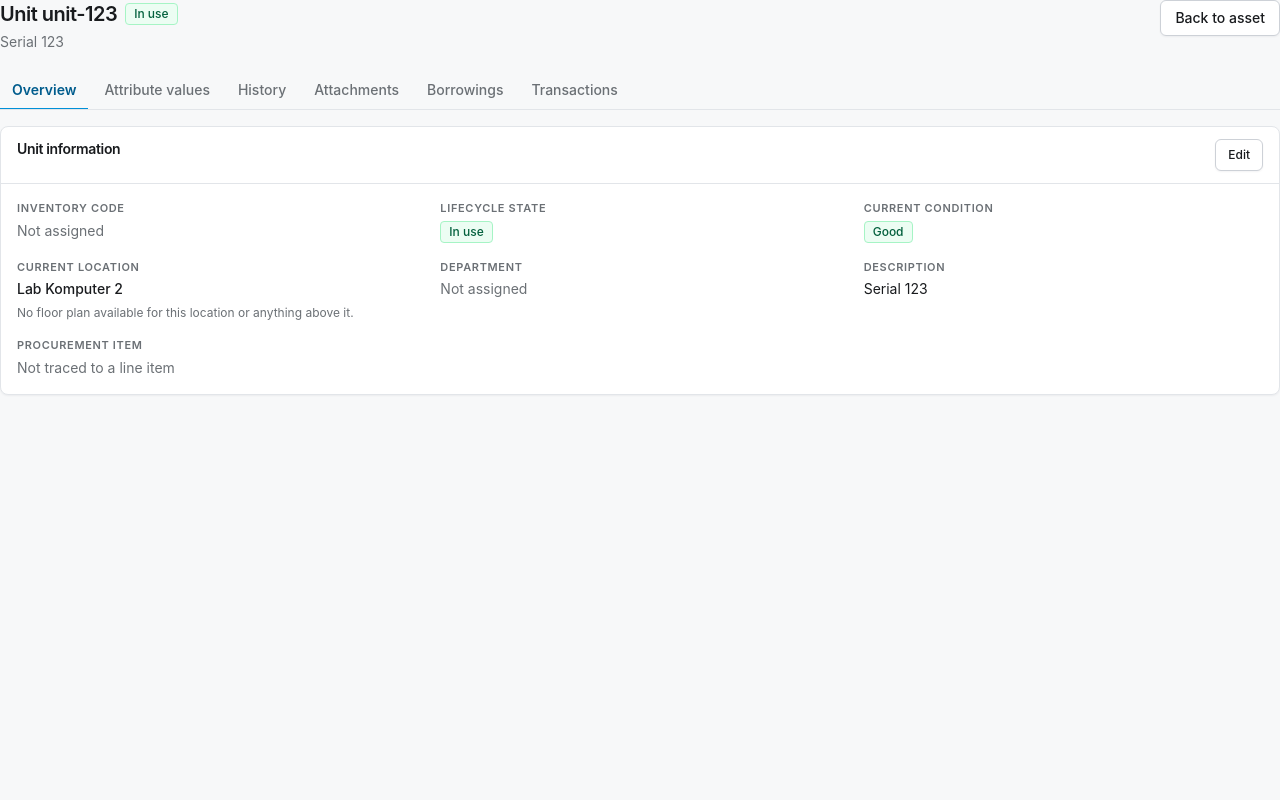
it: AssetUnitDetailPage › reports a rejected lifecycle transition from the server (REQ-LIFE-002)
Click the tab "History".
click(262, 91)  # box top-left (226, 72), bottom-right (298, 110)
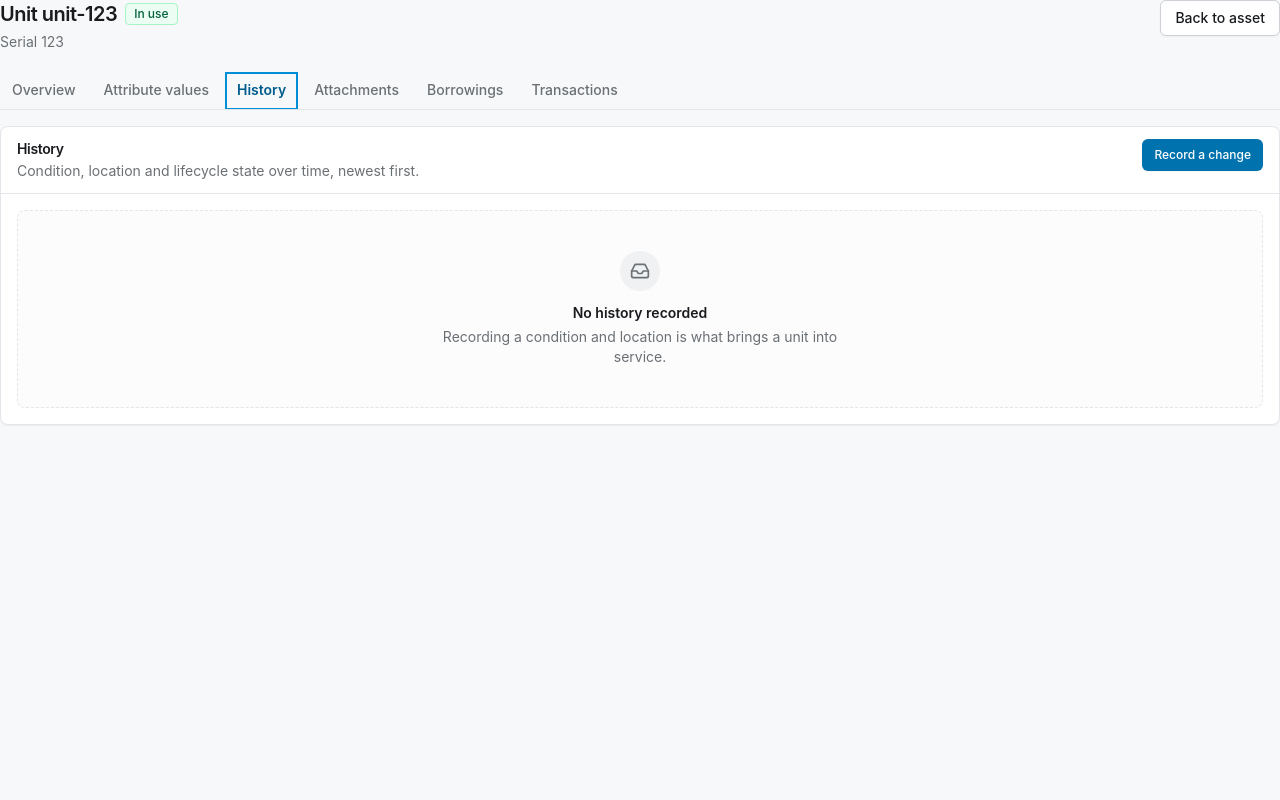
Click the button "Record a change".
click(1203, 155)  # box top-left (1142, 139), bottom-right (1263, 171)
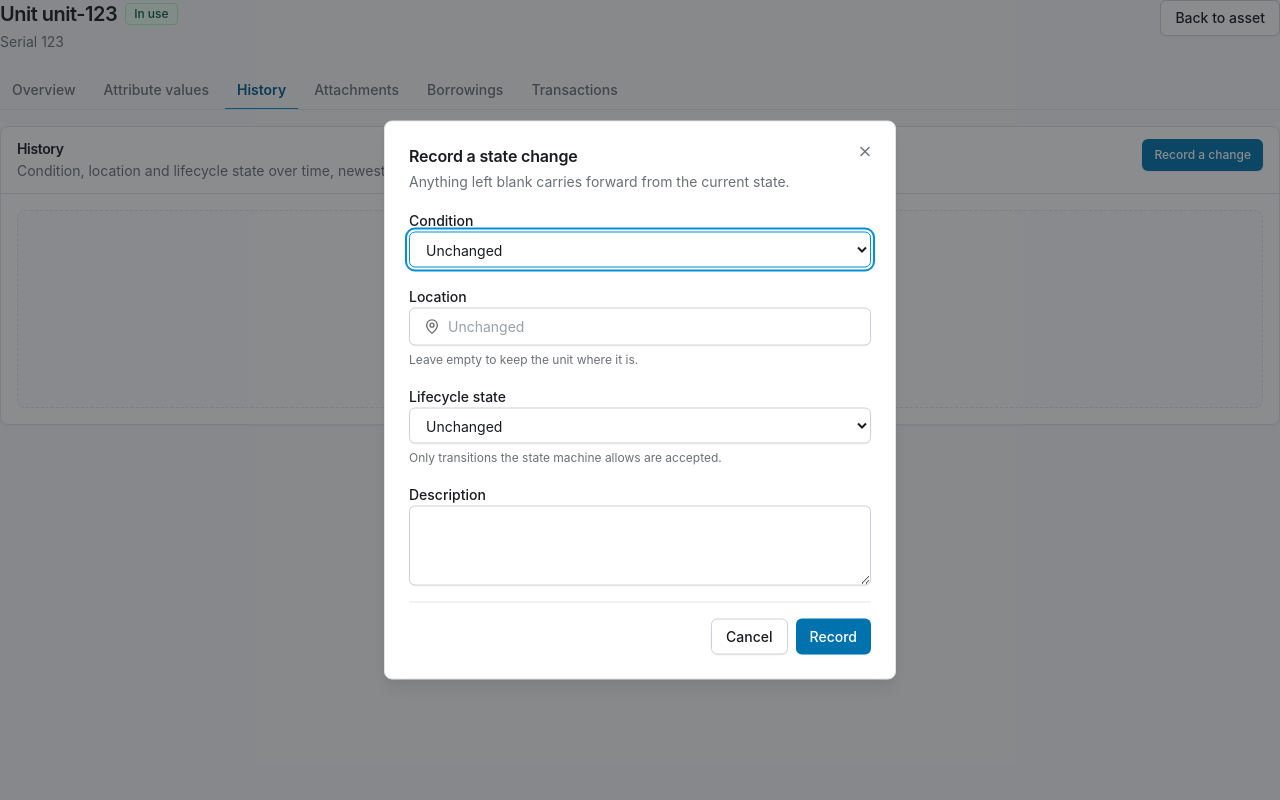
Select "Registered" in the dropdown labelled "Lifecycle state" at (640,426), box top-left (409, 408), bottom-right (871, 444)
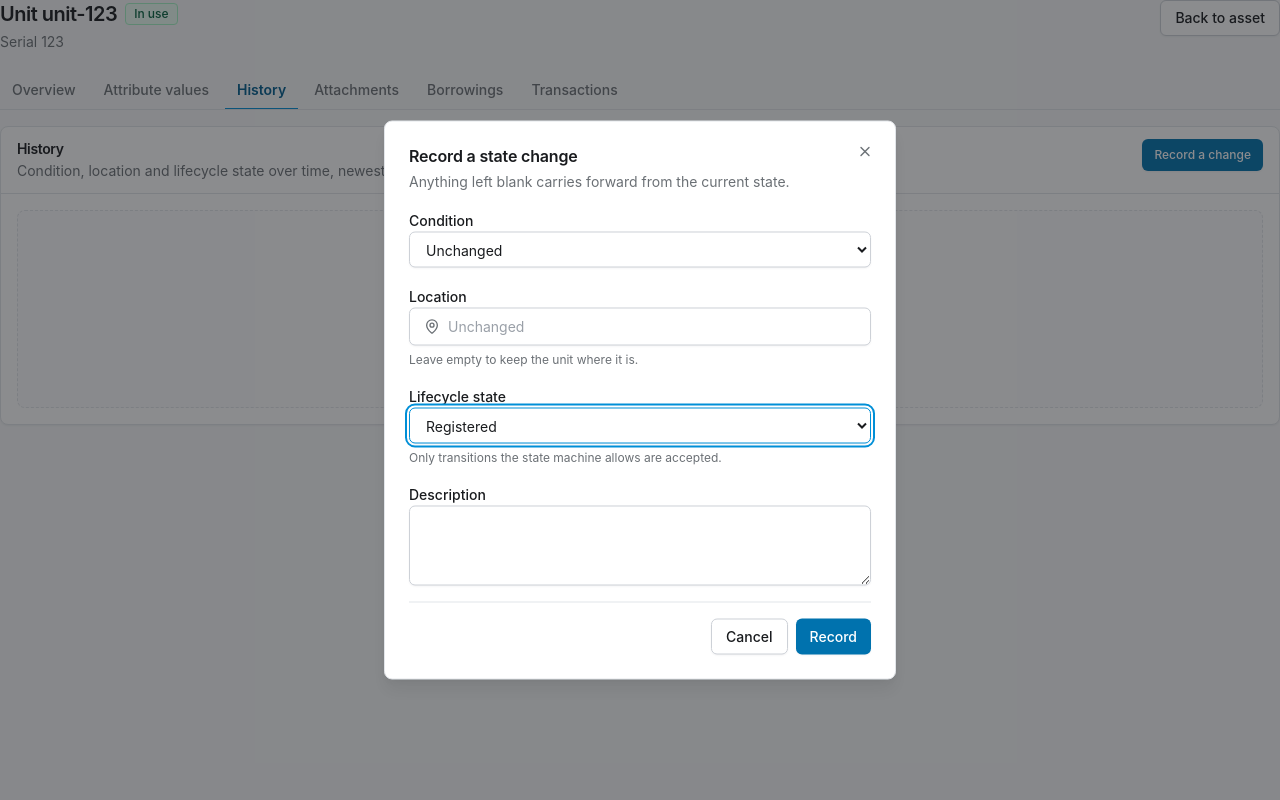
Click the button "Record".
click(833, 636)  # box top-left (796, 618), bottom-right (871, 654)
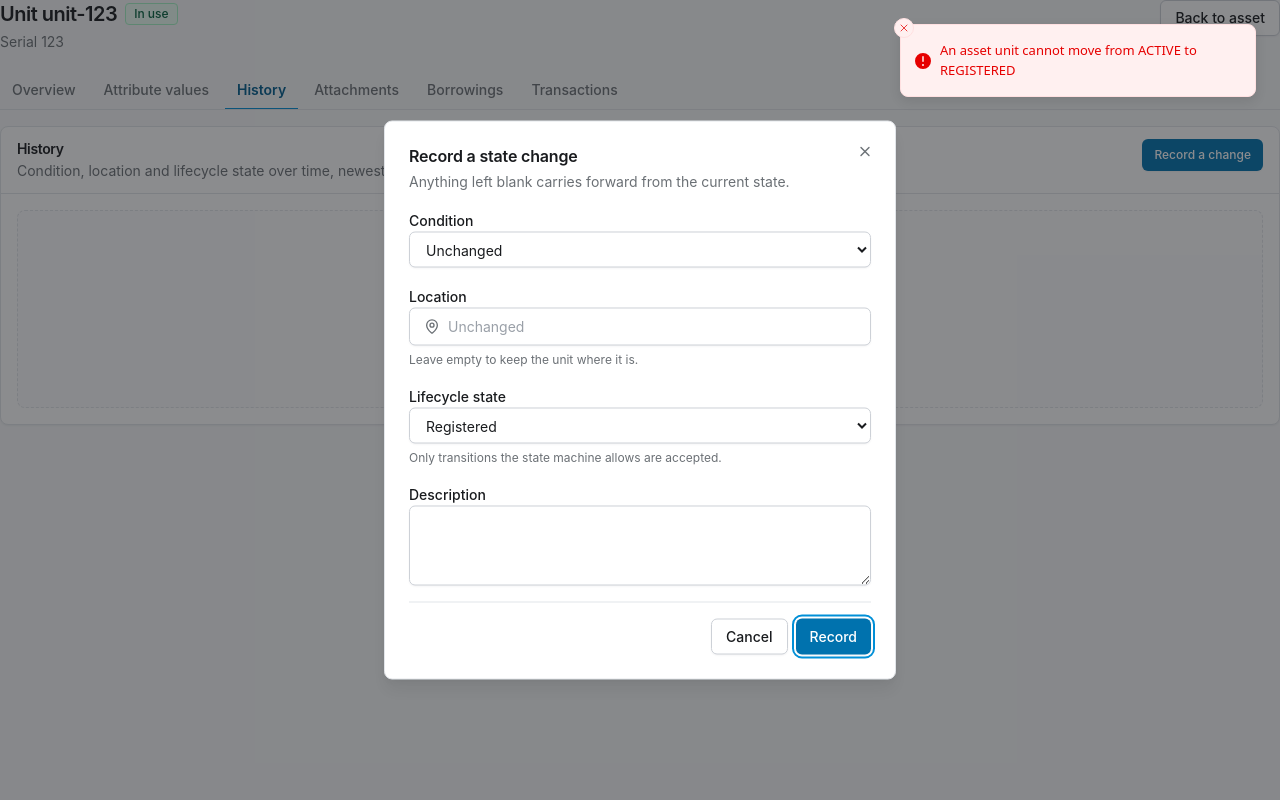
Expected: the text "An asset unit cannot move from ACTIVE to REGISTERED" is shown, top-left (940, 41), bottom-right (1239, 80)
